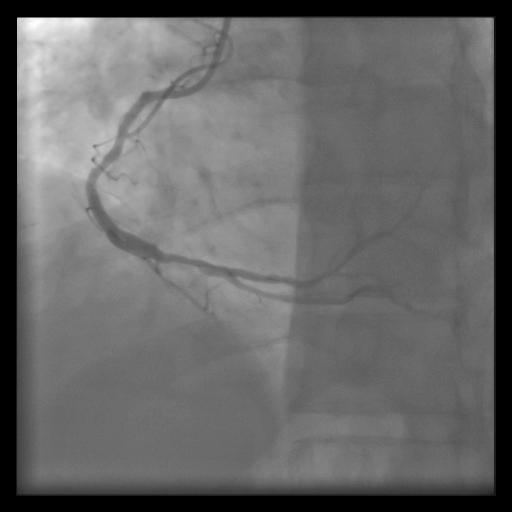Stenosis: (157, 240, 206, 280)
